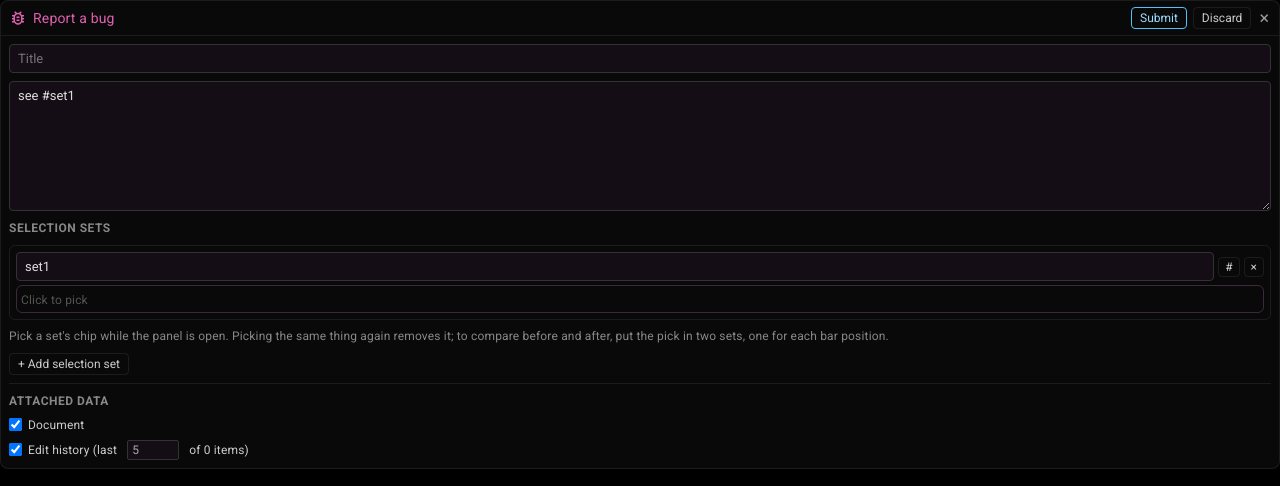
Scenario: BugReportPanel › turns a reference into a warning when its set is removed, without asking
Step 1. Click the 2nd button titled "Remove selection set" → (1254, 266), box [1244,256,1264,276]
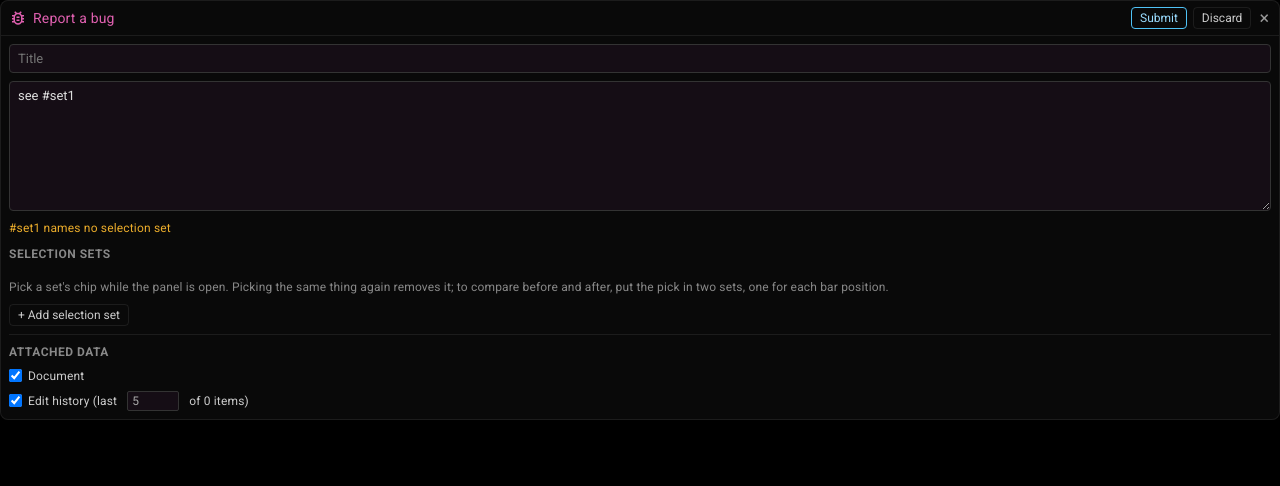
Now the text "#set1 names no selection set" is shown, box [9,221,171,235]
